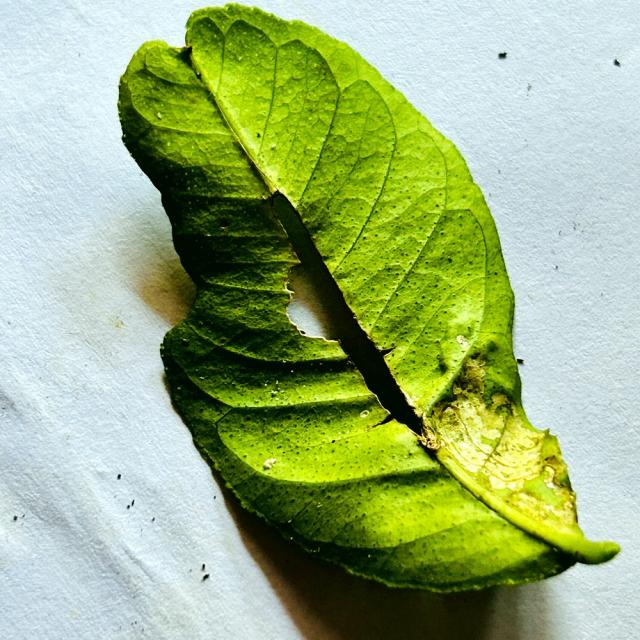Deficiency Leaf: (271, 191, 419, 430), (514, 312, 613, 547), (120, 150, 198, 337)
Lemon: (118, 5, 618, 589)
